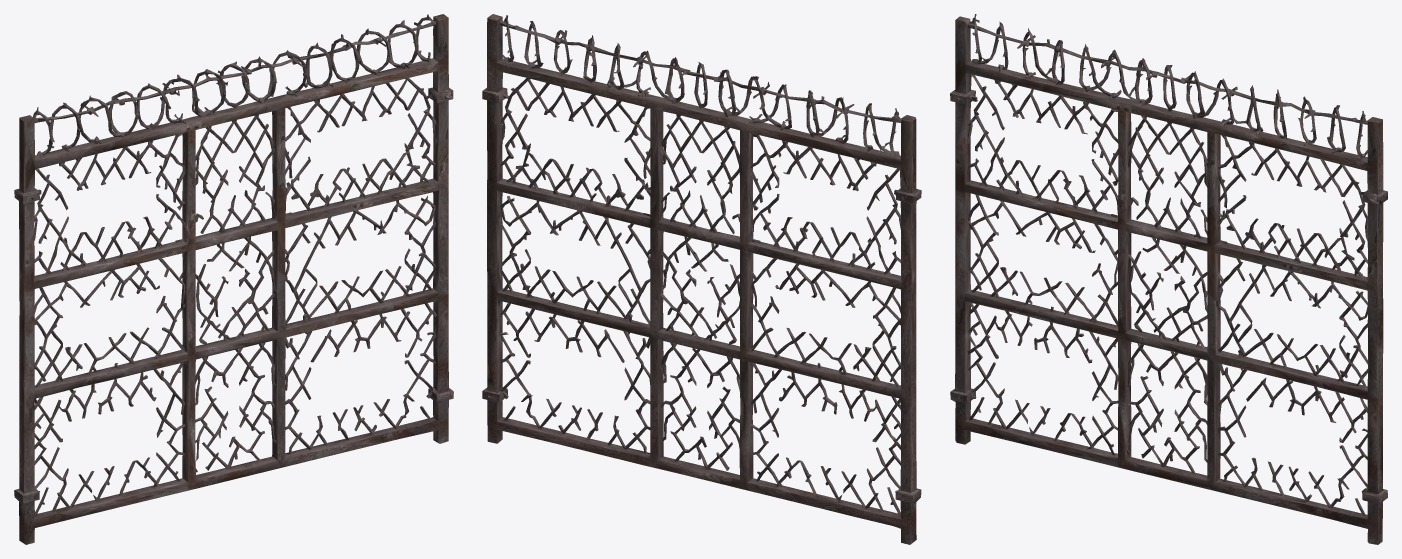
Rendered from fence_broken_idle.glb.
3 views of the same model, side by side, from view 1: azimuth 30°, elevation 25°; view 2: azimuth 150°, elevation 25°; view 3: azimuth 330°, elevation 25° (orthographic).
Visible parts, largest first — view 1: tripo_node_45b11bfb-7fb3-4e2f-819a-3f2baf977537; view 2: tripo_node_45b11bfb-7fb3-4e2f-819a-3f2baf977537; view 3: tripo_node_45b11bfb-7fb3-4e2f-819a-3f2baf977537.
Part boxes in pixels (x1,y1,x2,y2): tripo_node_45b11bfb-7fb3-4e2f-819a-3f2baf977537: [14, 14, 453, 544]; tripo_node_45b11bfb-7fb3-4e2f-819a-3f2baf977537: [482, 14, 921, 544]; tripo_node_45b11bfb-7fb3-4e2f-819a-3f2baf977537: [950, 14, 1387, 544].
Size of the model in its own units: 1.57 by 1.5 by 0.118.
Materials: 1 (1 with a texture image).
